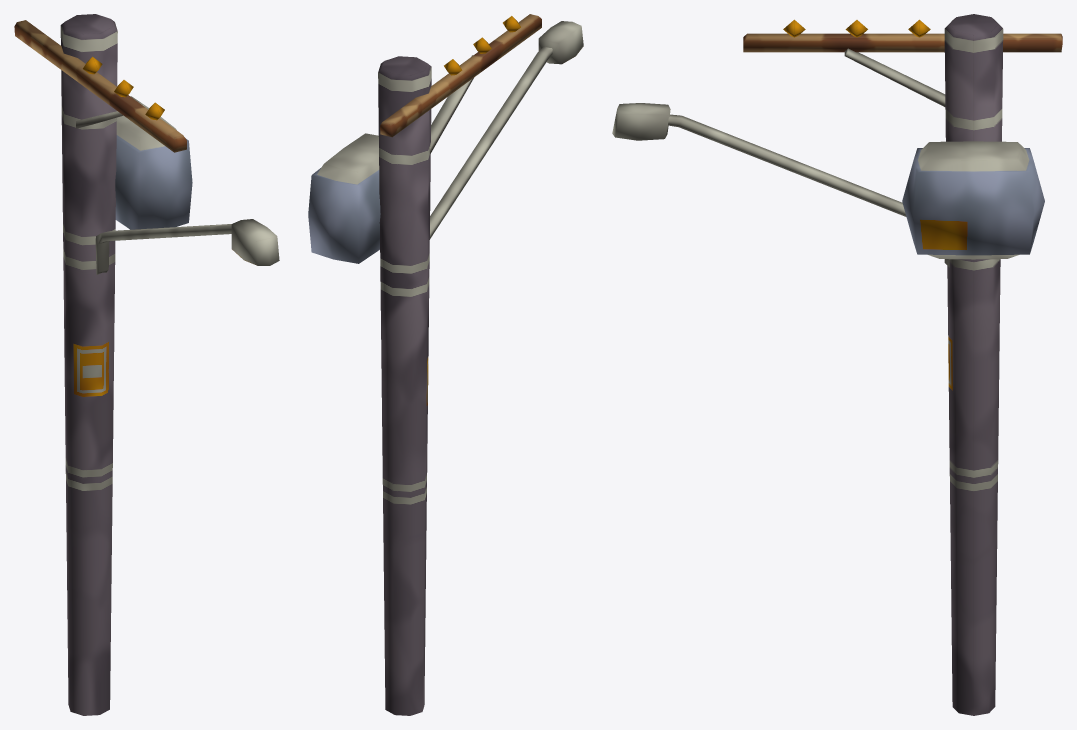
The model's file is LampPost(NoCable).fbx.
The picture shows the model from 3 angles, left to right: view 1: azimuth 30°, elevation 25°; view 2: azimuth 150°, elevation 25°; view 3: azimuth 270°, elevation 25°; orthographic projection. The views are drawn at different scales.
Parts seen in each view (by area): view 1: LampPost; view 2: LampPost; view 3: LampPost.
Part boxes in pixels (box(x1,y1,x2,y2)): LampPost: box(14, 14, 279, 715); LampPost: box(308, 14, 583, 715); LampPost: box(612, 14, 1062, 715).
Size of the model in its own units: 500 by 85.82 by 299.
